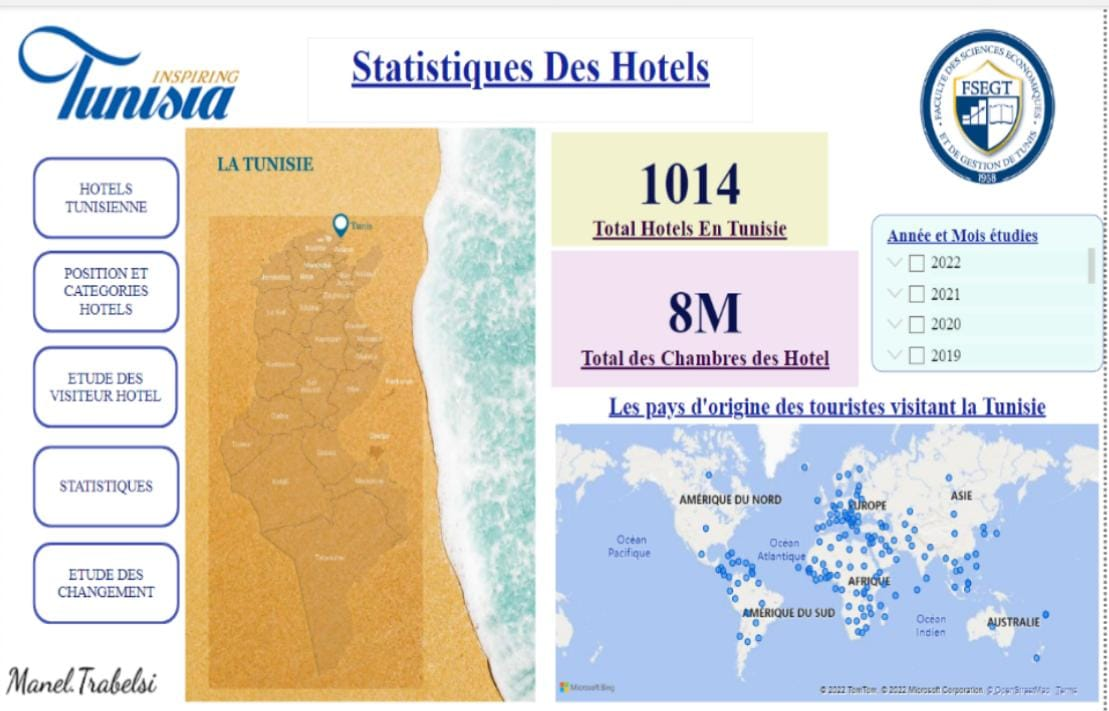

The dashboard page shown, as its layout file describes it:
{"tool":"powerbi","page":{"name":"ACCUEIL","canvas":[1280,720],"ordinal":0},"visuals":[{"type":"textbox","box":[357.6,32.4,516.1,85.8],"z":0},{"type":"image","box":[1061.4,8.1,166.7,186.1],"z":1000},{"type":"image","box":[0,7.6,301.1,121.2],"z":2000},{"type":"actionButton","box":[45.3,457.9,168.3,82.5],"z":3000},{"type":"actionButton","box":[43.7,210.3,169.9,82.5],"z":4000},{"type":"actionButton","box":[45.3,375.4,169.9,82.5],"z":5000},{"type":"actionButton","box":[43.7,127.8,169.9,82.5],"z":6000},{"type":"actionButton","box":[43.7,540.4,169.9,82.5],"z":7000},{"type":"image","box":[215.2,123,420.7,588.9],"z":8000},{"type":"slicer","fields":{"Values":["DATE.Année"]},"box":[1011.2,210.3,268.6,158.6],"z":9000},{"type":"map","title":"Les pays d''origine des touristes visitant la Tunisie","fields":{"Category":["PAYS.PAYS"]},"box":[640.7,389.9,639.1,317.1],"z":10000},{"type":"card","fields":{"Values":["HOTEL.NB Total des Hotels"]},"box":[640.7,127.8,320.4,114.9],"z":11000},{"type":"card","fields":{"Values":["DECADE HOTEL.Total des Chambres des Hotel"]},"box":[640.7,247.6,356,137.5],"z":12000},{"type":"image","box":[0,640.7,200.6,79.3],"z":13000},{"type":"actionButton","box":[43.7,292.9,169.9,82.5],"z":14000}]}

Visuals, with their boxes on the page's 1280x720 design canvas (x1, y1, x2, y2). These are canvas units, not pixel positions in the 1109x711 screenshot, which may show the page scaled, cropped or inside an application window:
textbox: l=358, t=32, r=874, b=118
image: l=1061, t=8, r=1228, b=194
image: l=0, t=8, r=301, b=129
actionButton: l=45, t=458, r=214, b=540
actionButton: l=44, t=210, r=214, b=293
actionButton: l=45, t=375, r=215, b=458
actionButton: l=44, t=128, r=214, b=210
actionButton: l=44, t=540, r=214, b=623
image: l=215, t=123, r=636, b=712
slicer - DATE.Année: l=1011, t=210, r=1280, b=369
"Les pays d''origine des touristes visitant la Tunisie" map: l=641, t=390, r=1280, b=707
card - HOTEL.NB Total des Hotels: l=641, t=128, r=961, b=243
card - DECADE HOTEL.Total des Chambres des Hotel: l=641, t=248, r=997, b=385
image: l=0, t=641, r=201, b=720
actionButton: l=44, t=293, r=214, b=375
